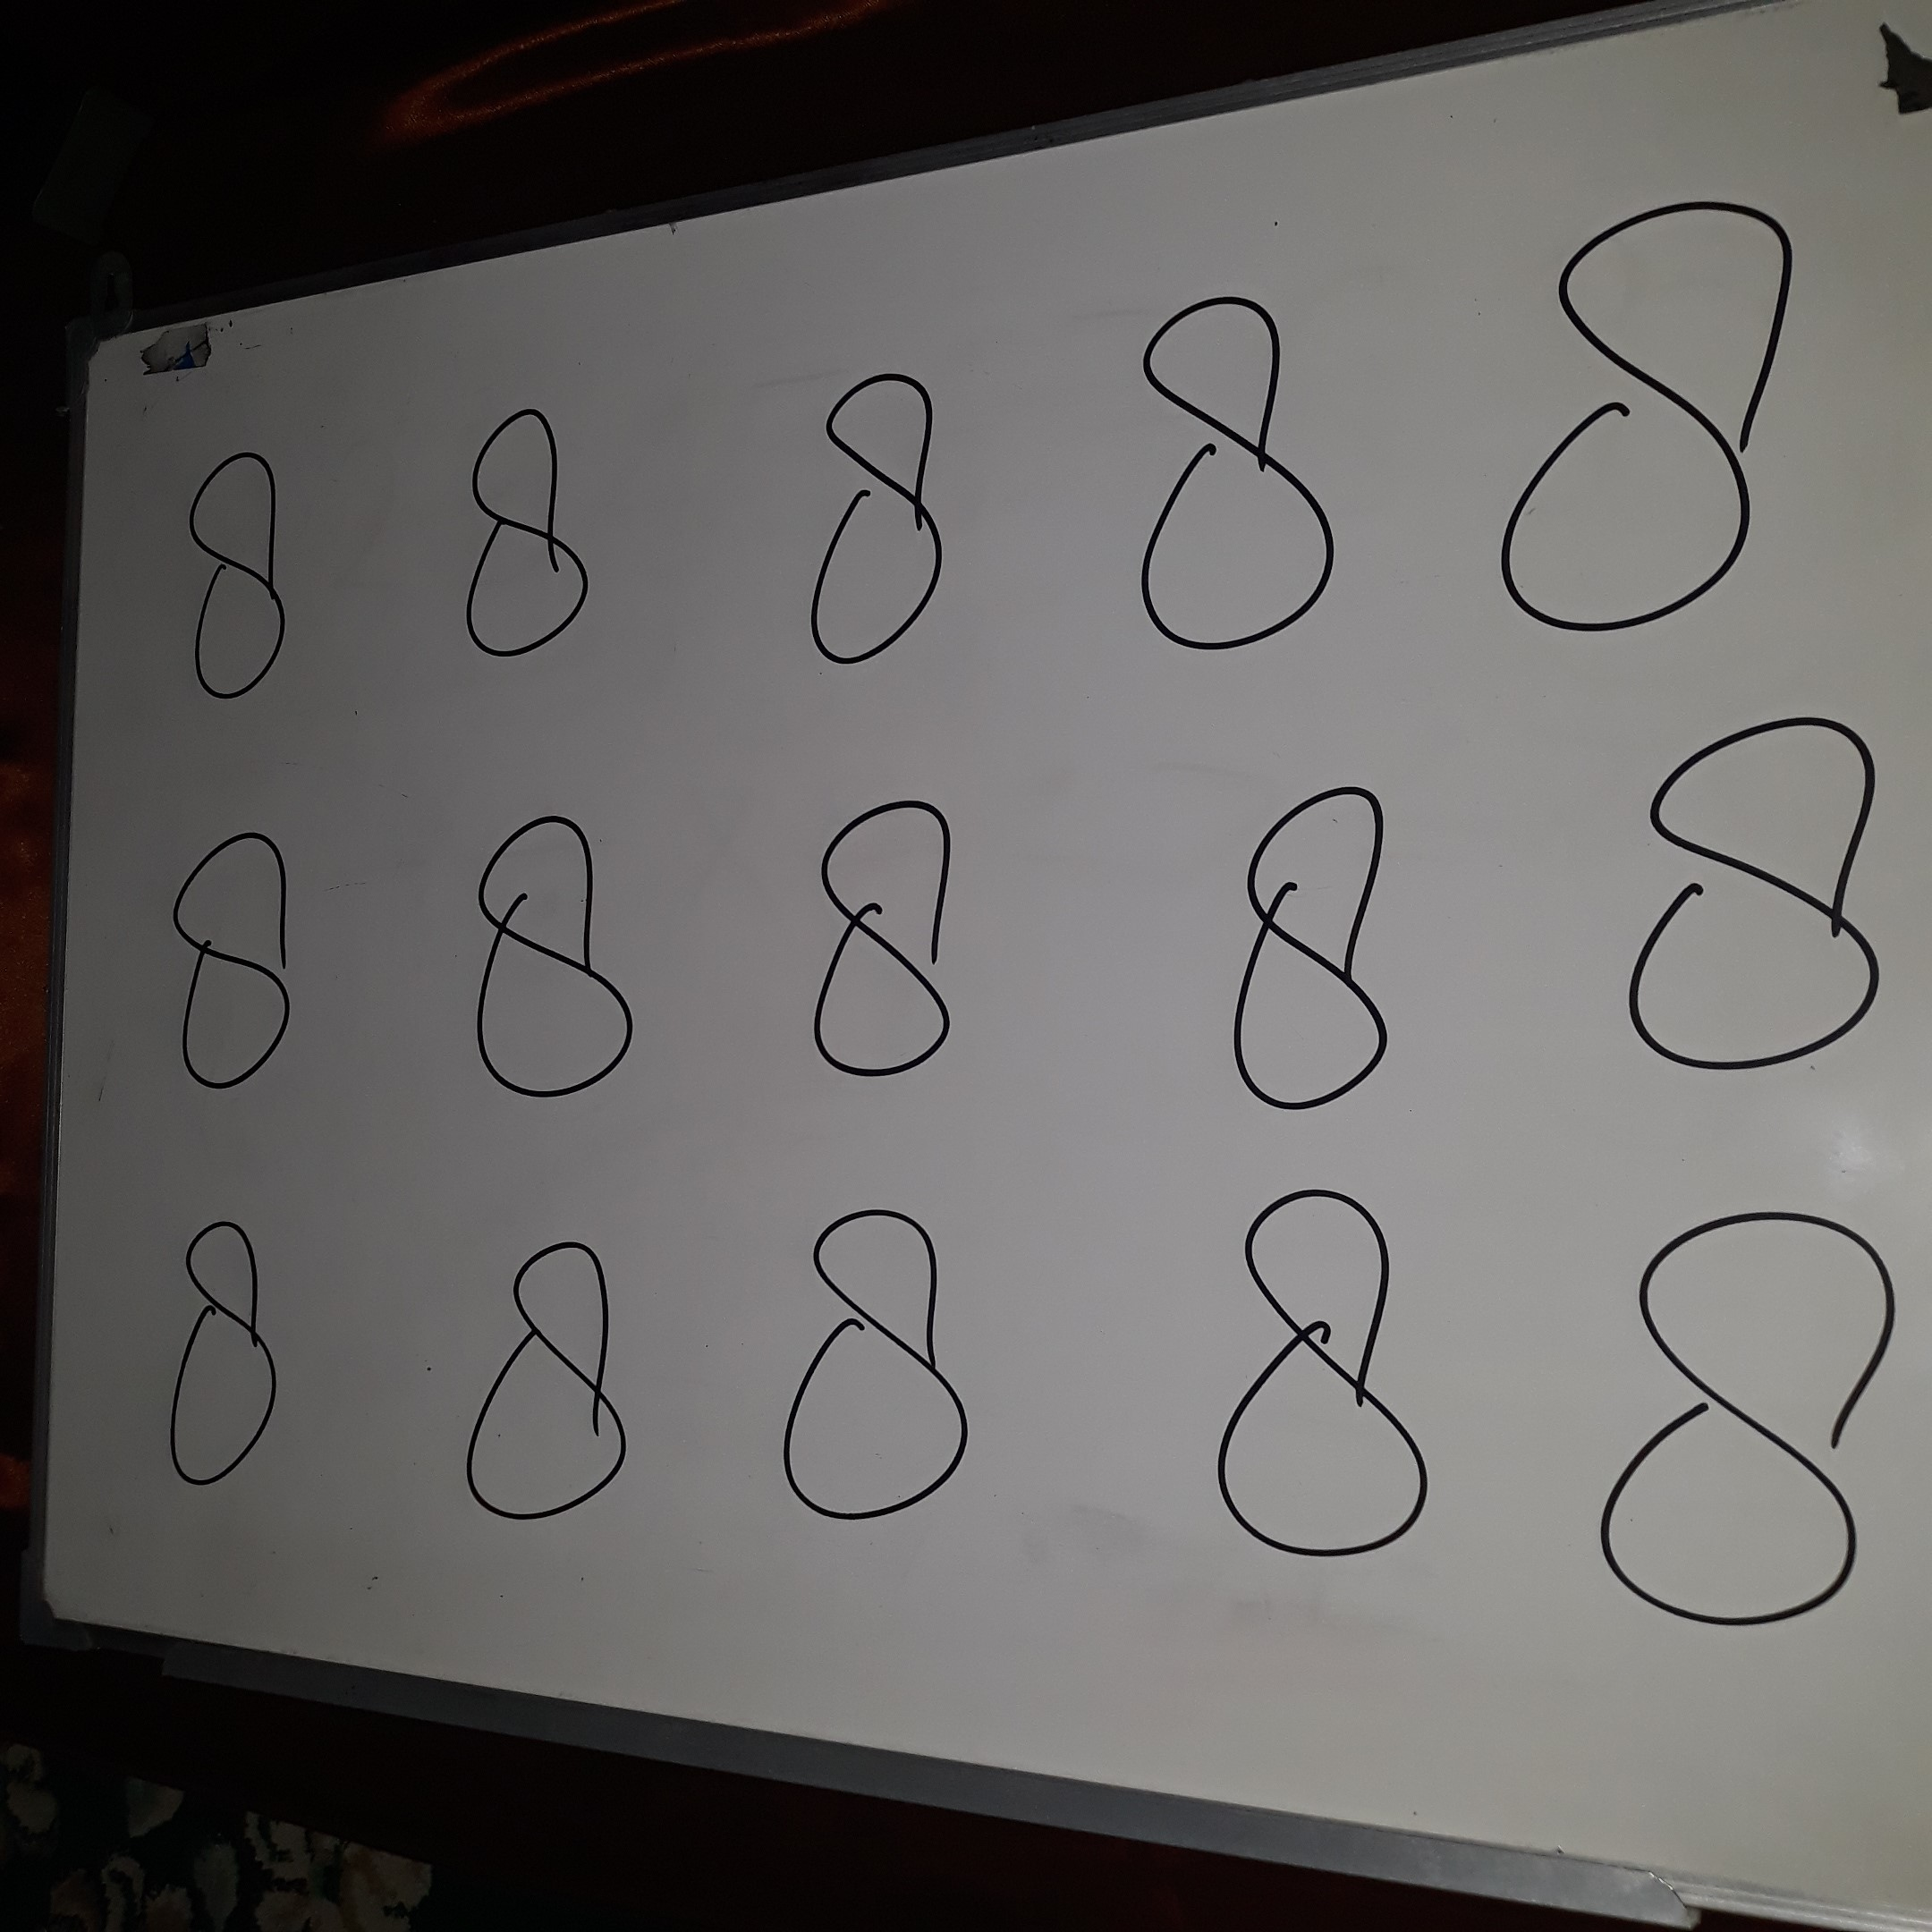num8: (1470, 176, 1838, 675), (1575, 1184, 1932, 1643), (1579, 703, 1932, 1104), (1178, 1174, 1484, 1594), (1163, 768, 1460, 1141), (1124, 275, 1374, 666), (438, 1212, 681, 1563), (445, 801, 677, 1138), (783, 776, 997, 1121), (781, 1199, 986, 1547), (131, 799, 343, 1124), (129, 1193, 332, 1525), (798, 360, 986, 681), (427, 388, 624, 687), (165, 436, 328, 711)
